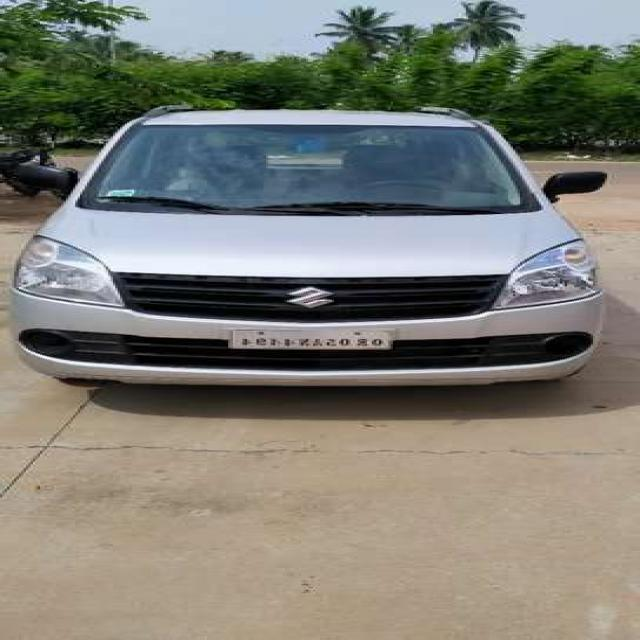license_plate: (224, 327, 400, 351)
